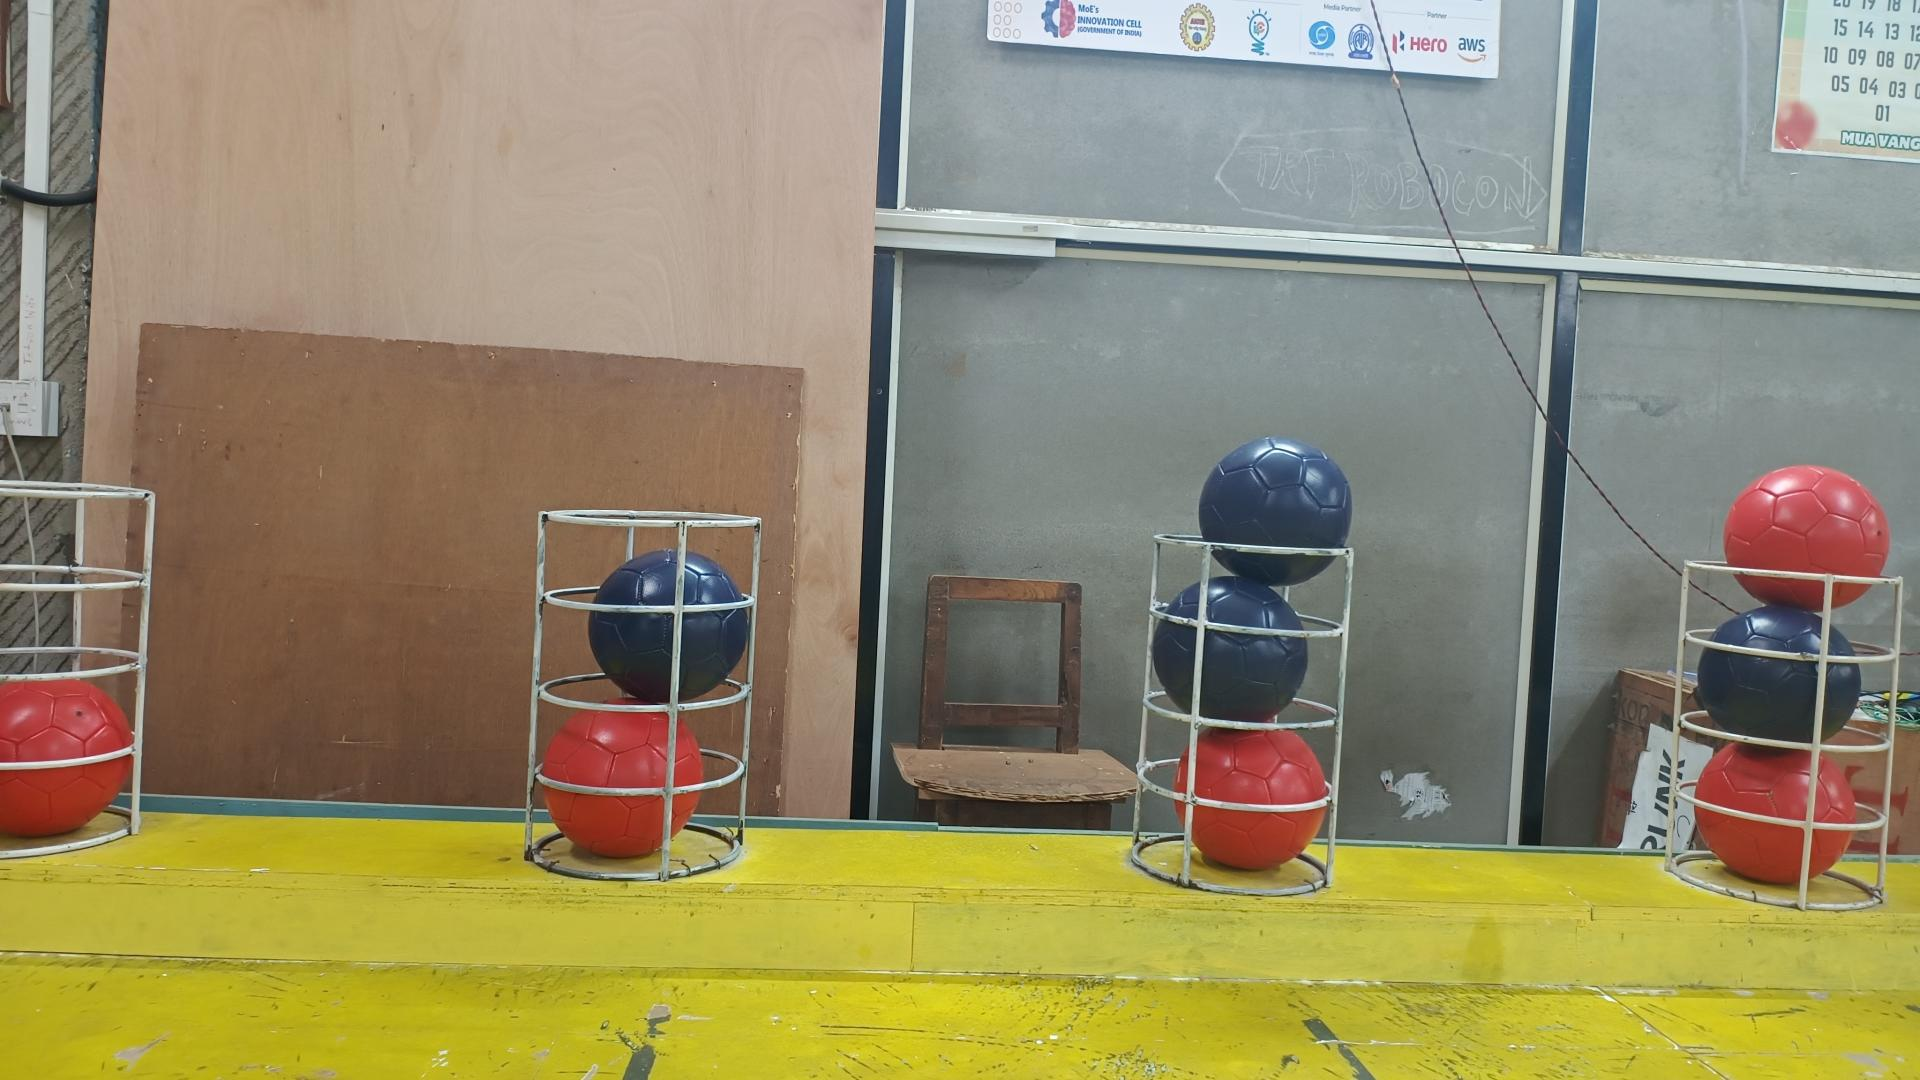dhoka: (587, 550, 752, 704), (1199, 438, 1352, 588), (1153, 576, 1309, 723), (1696, 605, 1861, 744)
laale: (541, 712, 707, 862), (1722, 468, 1891, 615), (1692, 746, 1858, 889), (1176, 729, 1329, 872), (0, 683, 128, 840)
